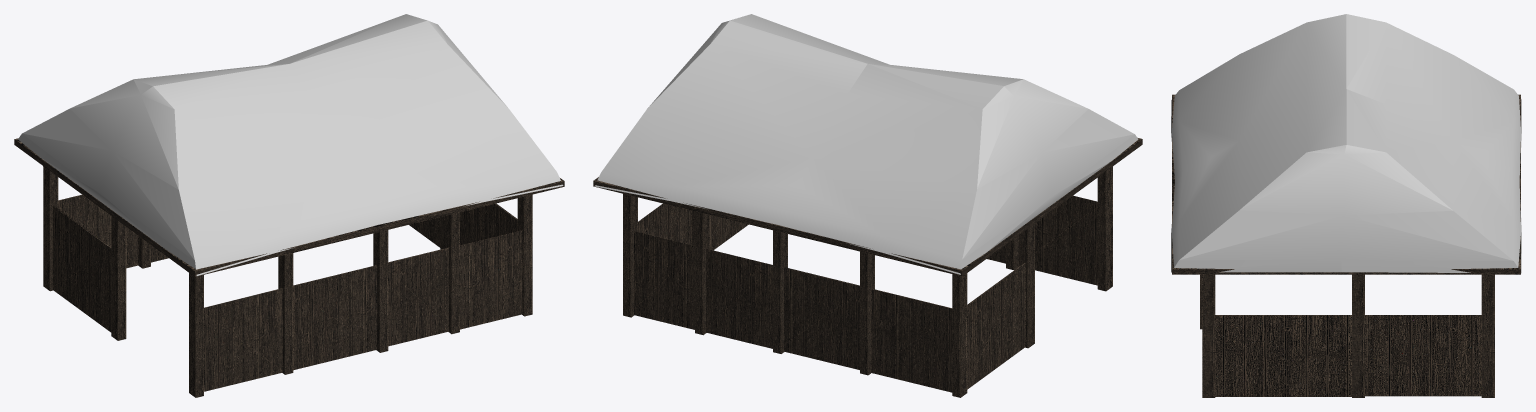
File: stab_LOD.fbx
3 views of the same model, side by side, from view 1: azimuth 30°, elevation 25°; view 2: azimuth 150°, elevation 25°; view 3: azimuth 270°, elevation 25° (orthographic). The views are drawn at different scales.
Visible parts, largest first — view 1: Mesh Object; view 2: Mesh Object; view 3: Mesh Object.
Boxes of the visible parts, bbox=[...] form: Mesh Object: bbox=[14, 14, 564, 397]; Mesh Object: bbox=[593, 14, 1142, 397]; Mesh Object: bbox=[1171, 14, 1521, 397].
Size of the model in its own units: 8.55 by 5.4 by 7.15.
